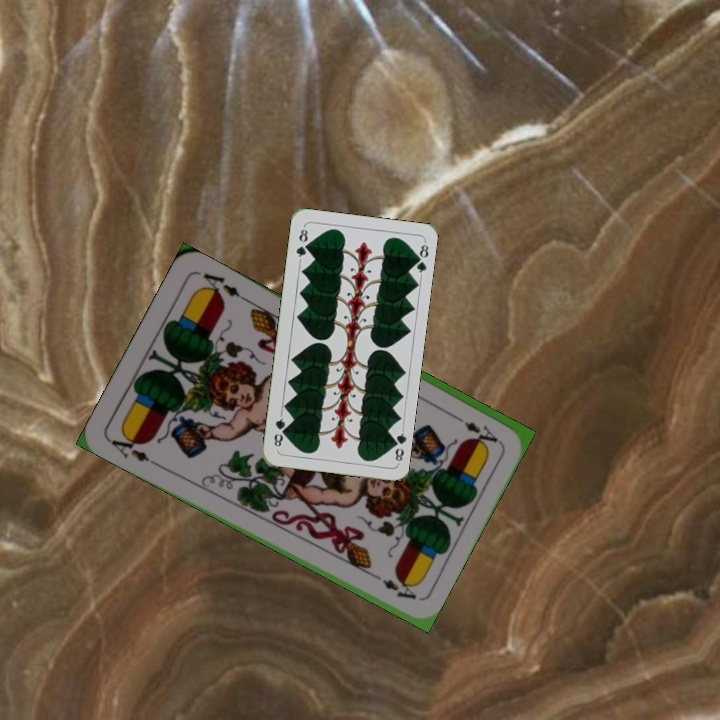EA: (105, 428, 160, 468), (448, 409, 501, 446)
G8: (387, 425, 408, 466), (292, 223, 311, 263)
